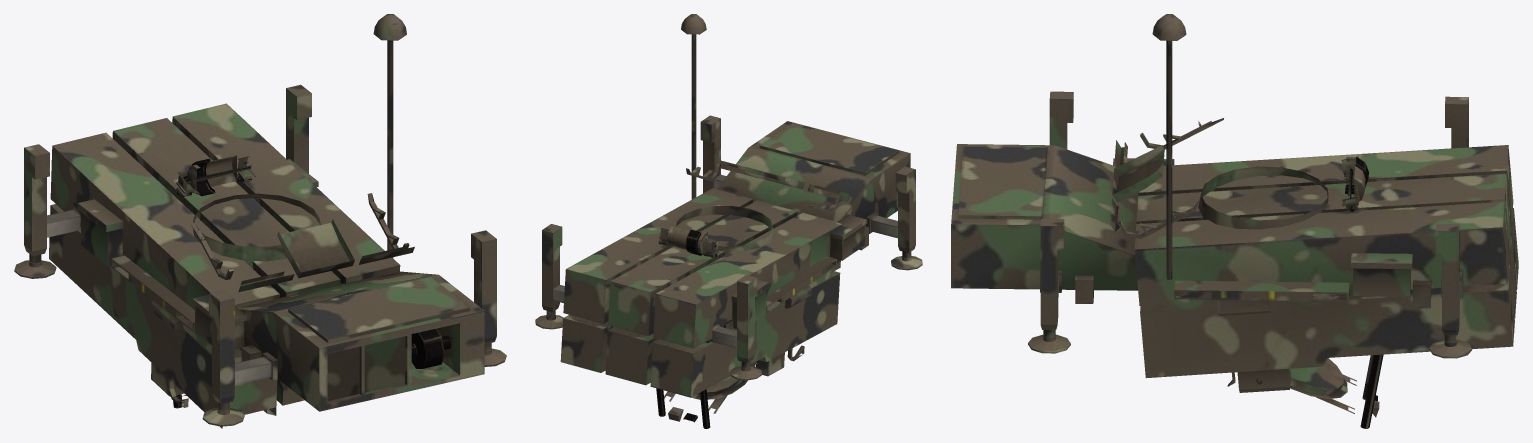
The model's file is nasams.glb.
3 renders of one model, left to right at view 1: azimuth 30°, elevation 25°; view 2: azimuth 150°, elevation 25°; view 3: azimuth 270°, elevation 25°, orthographic. The views are drawn at different scales.
Parts seen in each view (by area): view 1: body|object_0, cradle|object_0, turret|object_0; view 2: cradle|object_0, body|object_0, turret|object_0; view 3: cradle|object_0, body|object_0, turret|object_0.
Boxes of the visible parts, <box> form: body|object_0: <box>14,84,506,426</box>; cradle|object_0: <box>49,103,400,428</box>; turret|object_0: <box>373,14,406,257</box>; cradle|object_0: <box>560,188,841,428</box>; body|object_0: <box>535,115,922,380</box>; turret|object_0: <box>681,14,706,199</box>; cradle|object_0: <box>1134,145,1518,428</box>; body|object_0: <box>951,91,1472,358</box>; turret|object_0: <box>1152,14,1186,279</box>.
Bounding box in the file's own units: 4.55 × 6.27 × 7.31.
3 materials, 3 textured.
